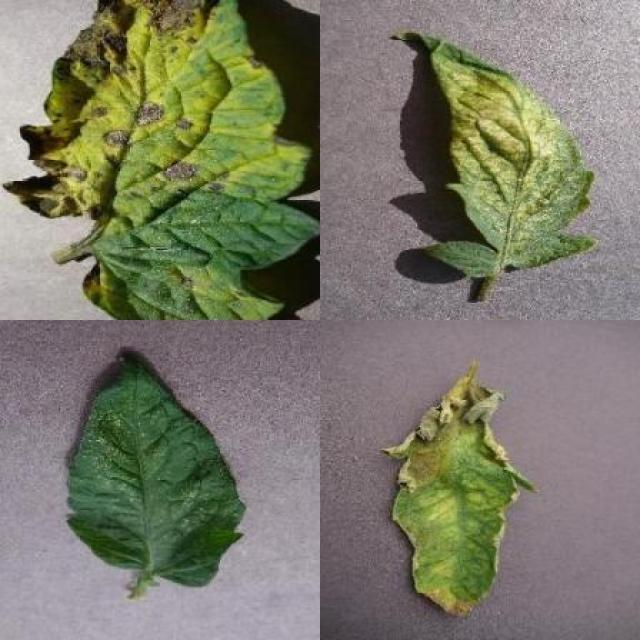Early Blight: (3, 3, 320, 320)
Late Blight: (382, 380, 538, 616)
Spider Mites: (392, 29, 598, 274), (64, 356, 245, 588)
